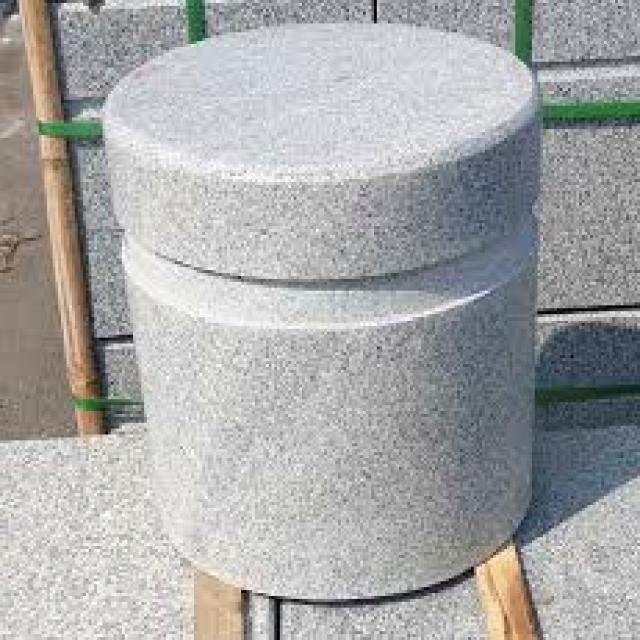bollard: (96, 13, 548, 611)
